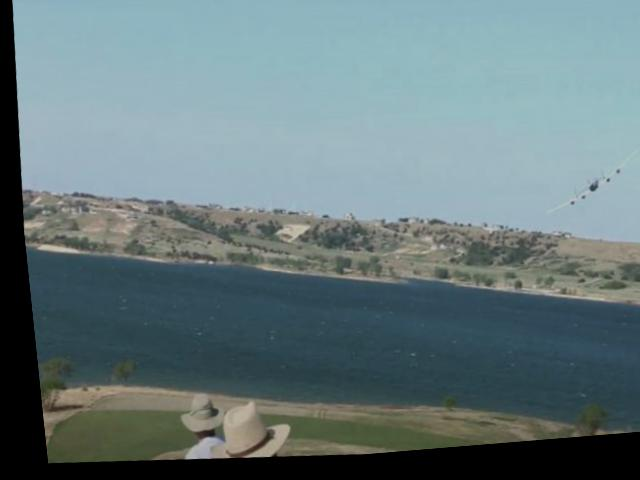iha: (537, 152, 639, 228)
